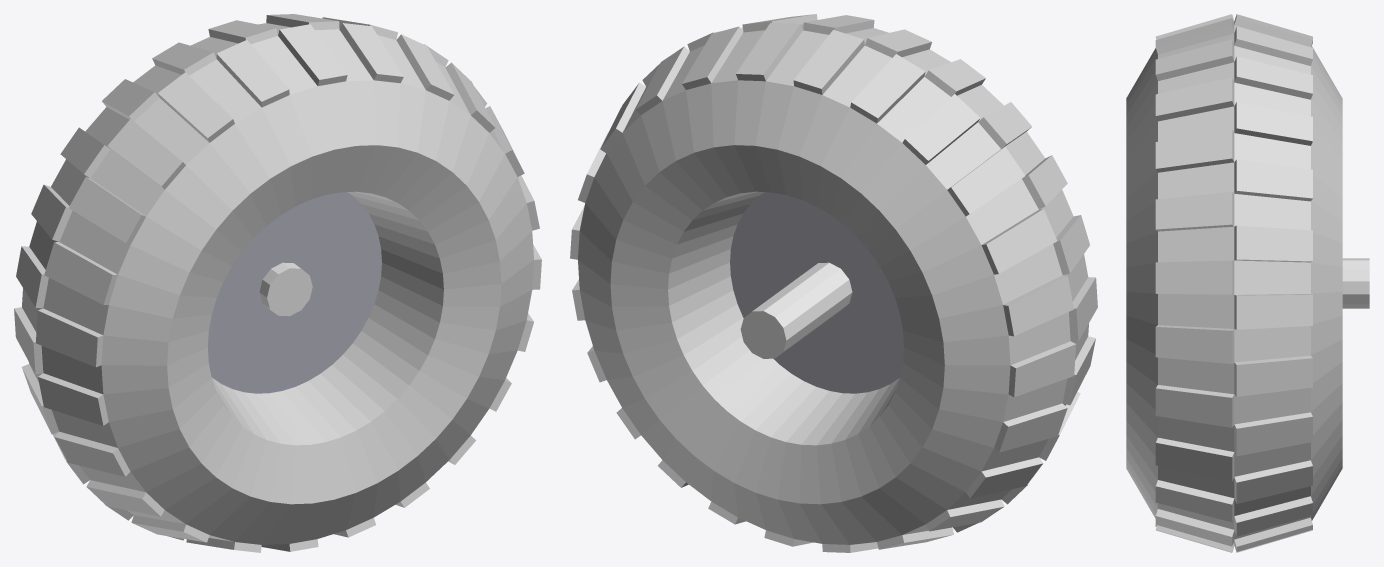
Rendered from wheel_medium.fbx.
The picture shows the model from 3 angles, left to right: view 1: azimuth 30°, elevation 25°; view 2: azimuth 150°, elevation 25°; view 3: azimuth 270°, elevation 25°; orthographic projection. The views are drawn at different scales.
Parts seen in each view (by area): view 1: Torus, Cylinder, Cylinder.001; view 2: Torus, Cylinder, Cylinder.001; view 3: Torus, Cylinder.001.
Part boxes in pixels (<box>): Torus: <box>14,14,541,552</box>; Cylinder: <box>208,192,381,393</box>; Cylinder.001: <box>259,262,312,316</box>; Torus: <box>570,14,1097,552</box>; Cylinder: <box>730,192,903,393</box>; Cylinder.001: <box>740,262,852,358</box>; Torus: <box>1126,14,1342,552</box>; Cylinder.001: <box>1342,258,1369,308</box>.
Size of the model in its own units: 1.09 by 1.09 by 0.4919.
2 materials, 1 textured.
